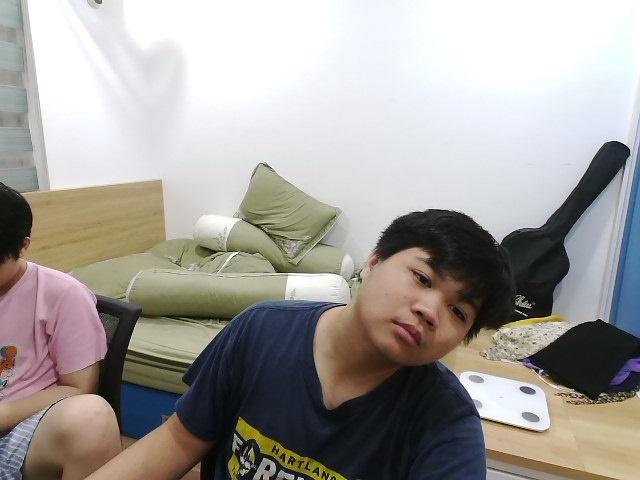face: (360, 208, 501, 366)
